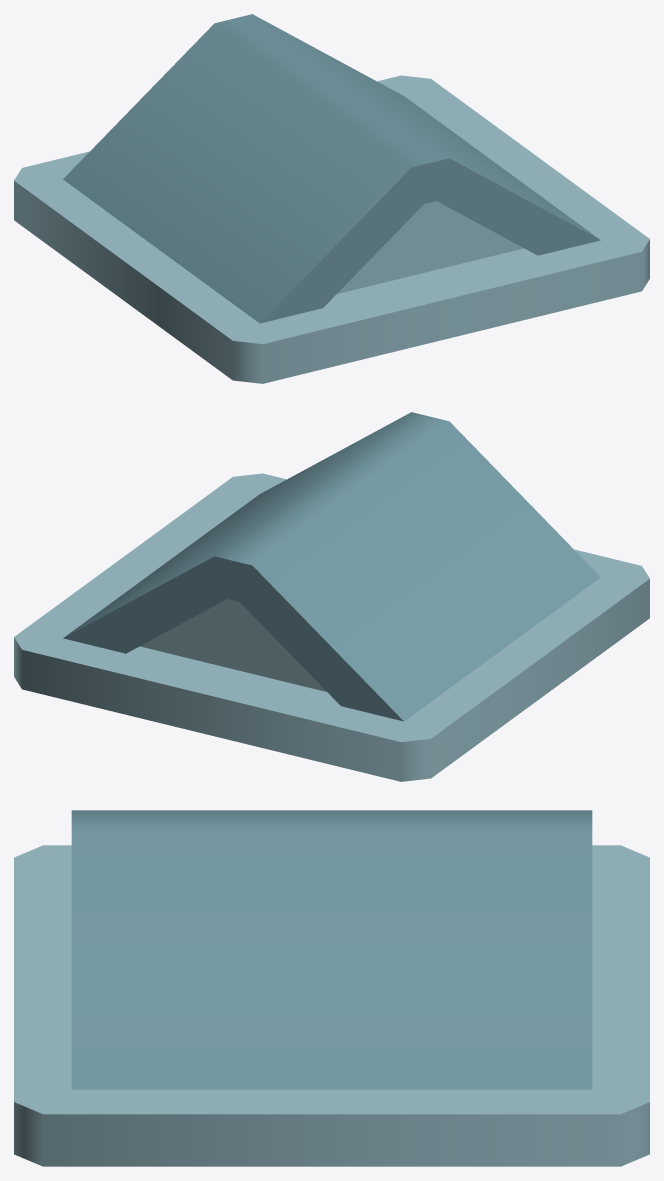
File: cryptSmallRoof.obj
The picture shows the model from 3 angles, top to bottom: view 1: azimuth 30°, elevation 25°; view 2: azimuth 150°, elevation 25°; view 3: azimuth 270°, elevation 25°; orthographic projection. The views are drawn at different scales.
Visible parts, largest first — view 1: cryptSmallRoof; view 2: cryptSmallRoof; view 3: cryptSmallRoof.
Part boxes in pixels (x1=…): cryptSmallRoof: x1=14, y1=14, x2=649, y2=383; cryptSmallRoof: x1=14, y1=412, x2=649, y2=781; cryptSmallRoof: x1=14, y1=810, x2=649, y2=1166.
Bounding box in the file's own units: 1.1 × 0.4 × 1.1.
